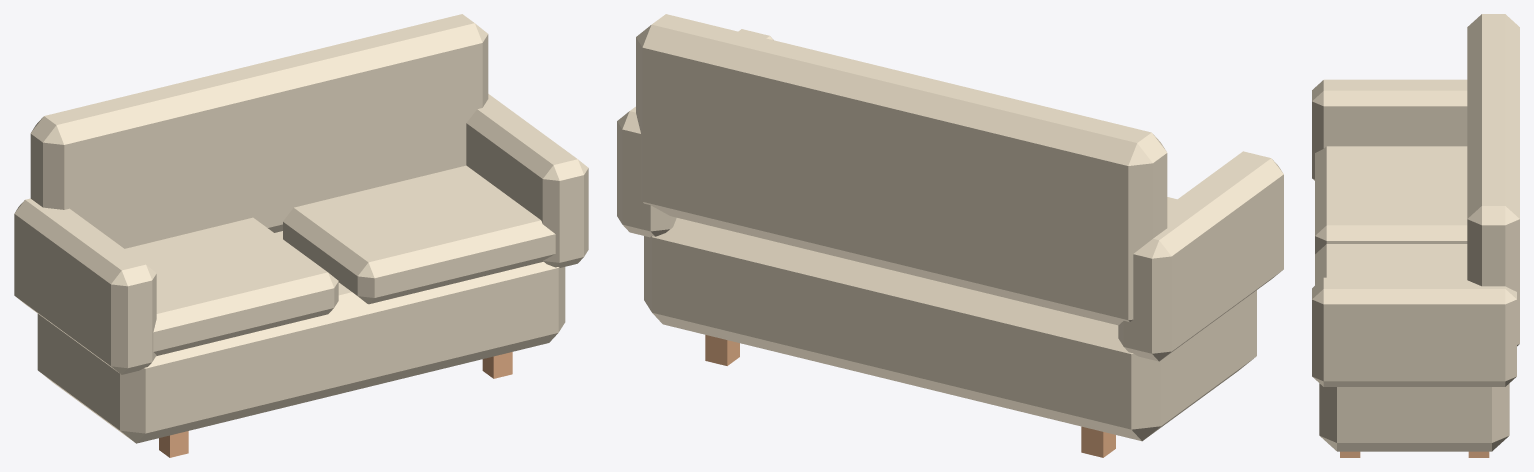
The picture shows the model from 3 angles, left to right: view 1: azimuth 30°, elevation 25°; view 2: azimuth 150°, elevation 25°; view 3: azimuth 270°, elevation 25°; orthographic projection. The views are drawn at different scales.
Parts seen in each view (by area): view 1: Back, Base, Seat cushion.001, Seat cushion, Arm, Arm.001, Sofa leg.002, Sofa leg; view 2: Back, Base, Arm, Arm.001, Sofa leg.001, Sofa leg.003; view 3: Arm.001, Seat cushion, Back, Base, Arm, Seat cushion.001.
Part boxes in pixels (x1=…): Back: x1=30, y1=14, x2=488, y2=248; Base: x1=37, y1=231, x2=565, y2=443; Seat cushion.001: x1=283, y1=165, x2=555, y2=304; Seat cushion: x1=125, y1=217, x2=338, y2=355; Arm: x1=14, y1=198, x2=156, y2=374; Arm.001: x1=466, y1=94, x2=588, y2=267; Sofa leg.002: x1=482, y1=352, x2=512, y2=378; Sofa leg: x1=159, y1=431, x2=188, y2=457; Back: x1=636, y1=14, x2=1167, y2=325; Base: x1=644, y1=218, x2=1256, y2=441; Arm: x1=1118, y1=151, x2=1283, y2=361; Arm.001: x1=617, y1=29, x2=773, y2=237; Sofa leg.001: x1=1081, y1=426, x2=1115, y2=457; Sofa leg.003: x1=705, y1=335, x2=739, y2=365; Arm.001: x1=1312, y1=277, x2=1516, y2=386; Seat cushion: x1=1315, y1=146, x2=1467, y2=253; Back: x1=1467, y1=14, x2=1519, y2=346; Base: x1=1319, y1=383, x2=1509, y2=451; Arm: x1=1312, y1=79, x2=1467, y2=180; Seat cushion.001: x1=1315, y1=244, x2=1467, y2=285.
Bounding box in the file's own units: 177 × 102 × 71.
